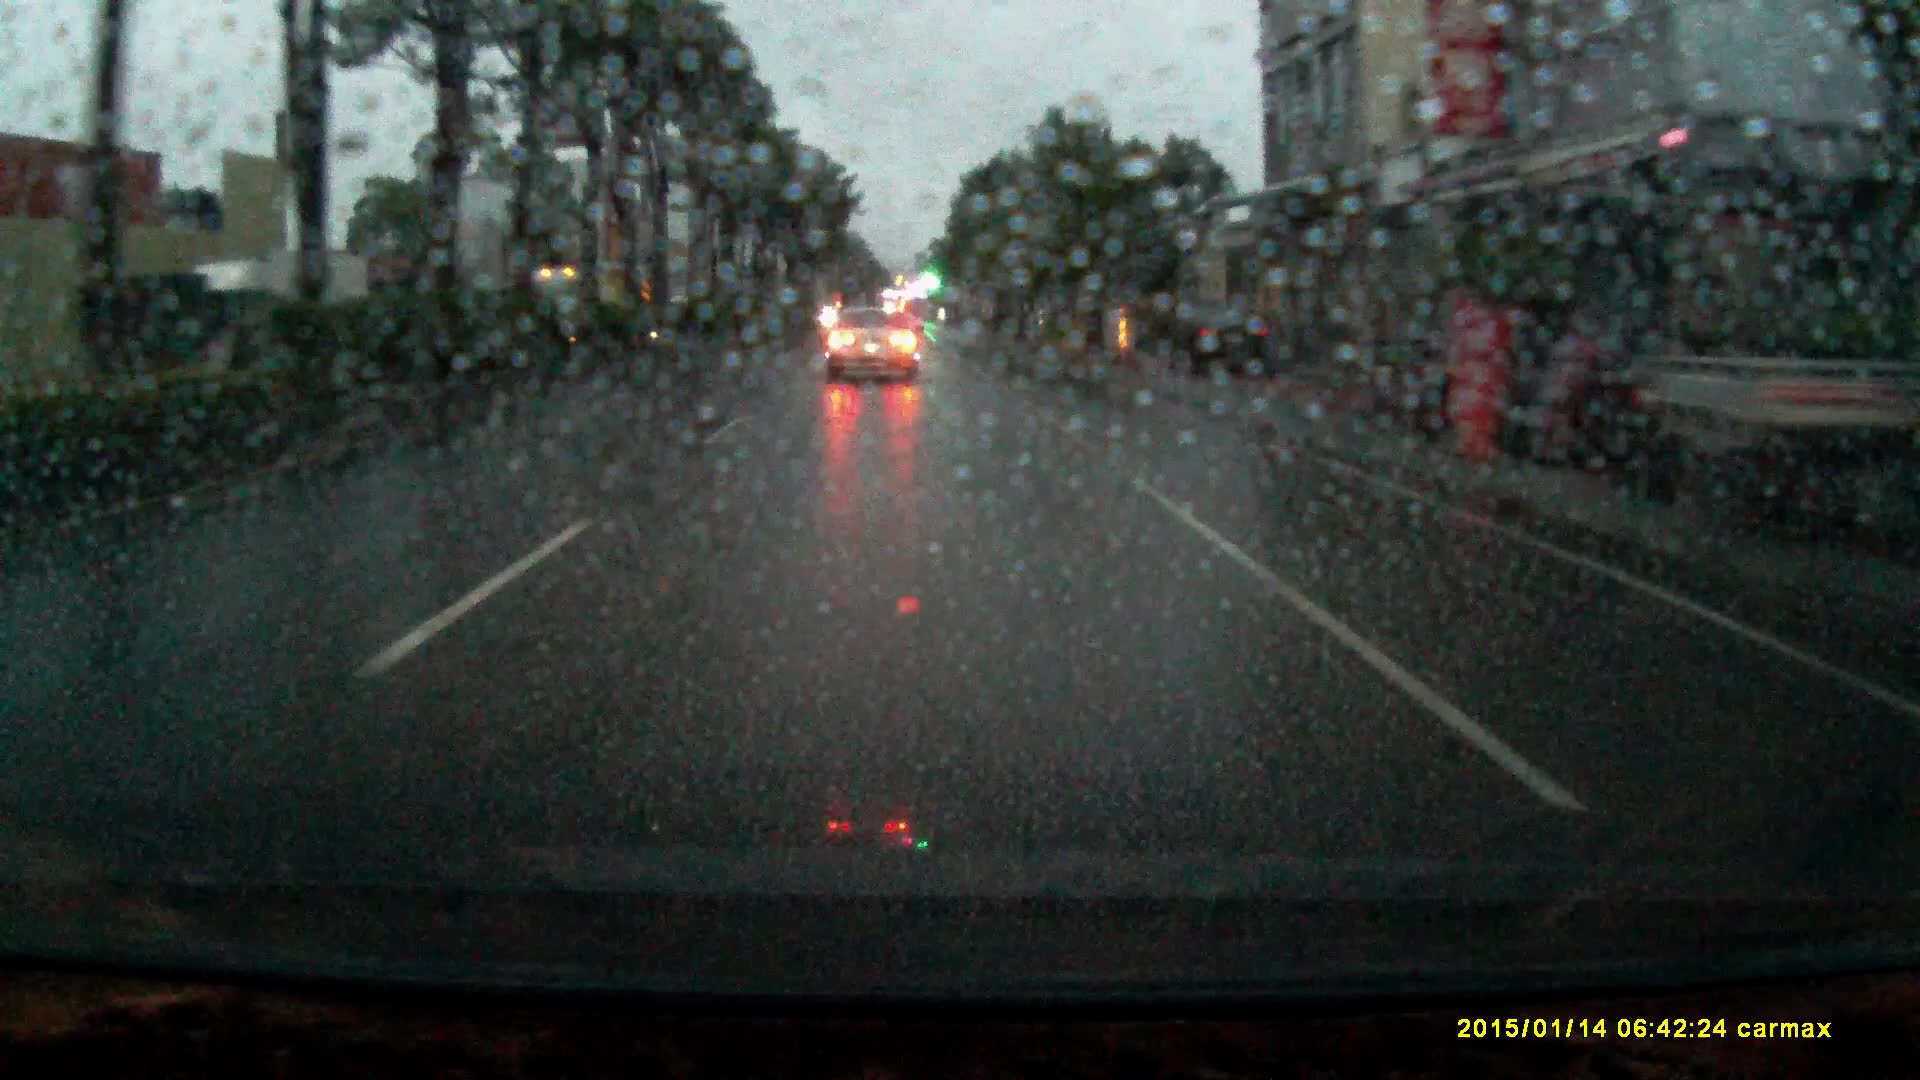vehicle: (171, 249, 375, 373), (825, 305, 924, 386), (1166, 305, 1273, 377), (520, 266, 632, 311)
